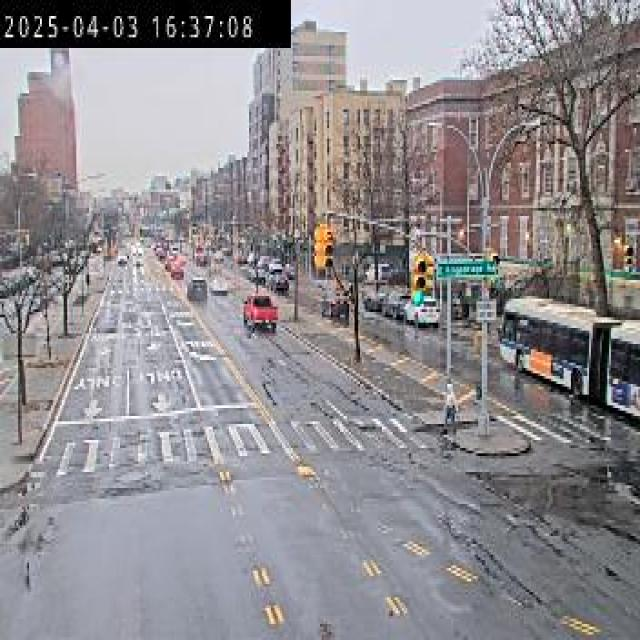parkedCars: (368, 273, 456, 335)
